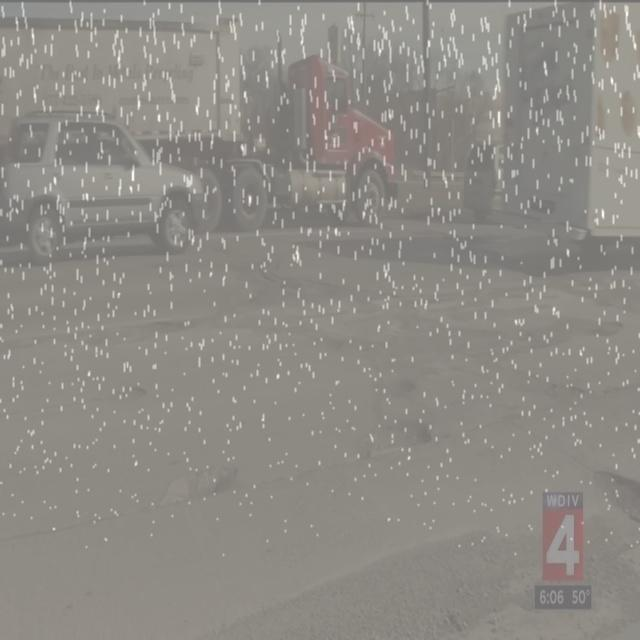Pothole: (146, 450, 262, 514), (295, 321, 422, 370), (357, 410, 440, 470), (292, 270, 382, 316), (592, 464, 640, 532), (522, 319, 624, 348), (129, 310, 238, 336), (365, 370, 423, 411)
